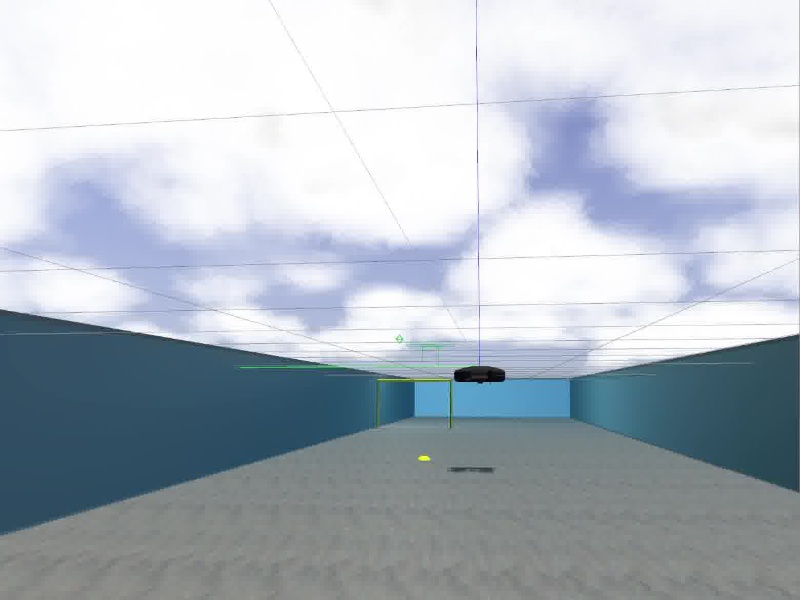gate: (375, 378, 453, 428)
